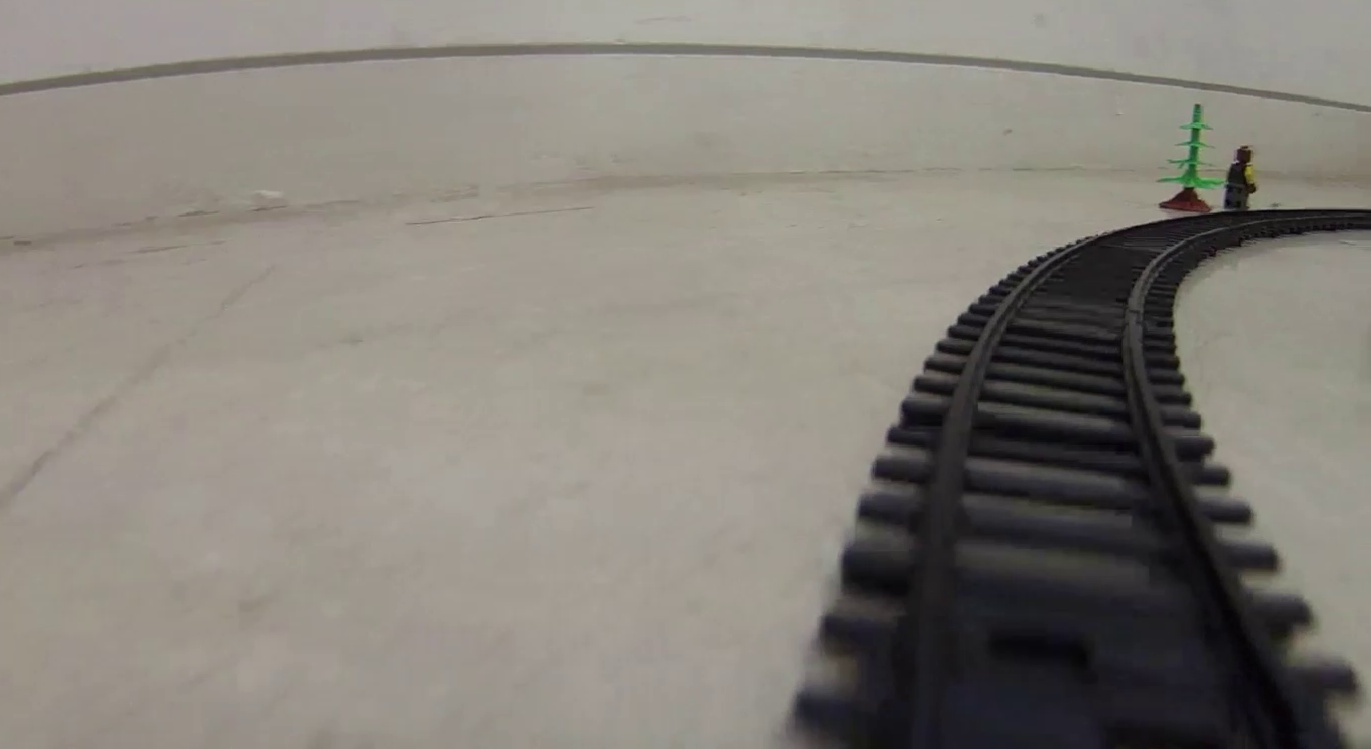people: (1222, 146, 1261, 211)
tree: (1156, 102, 1223, 212)
